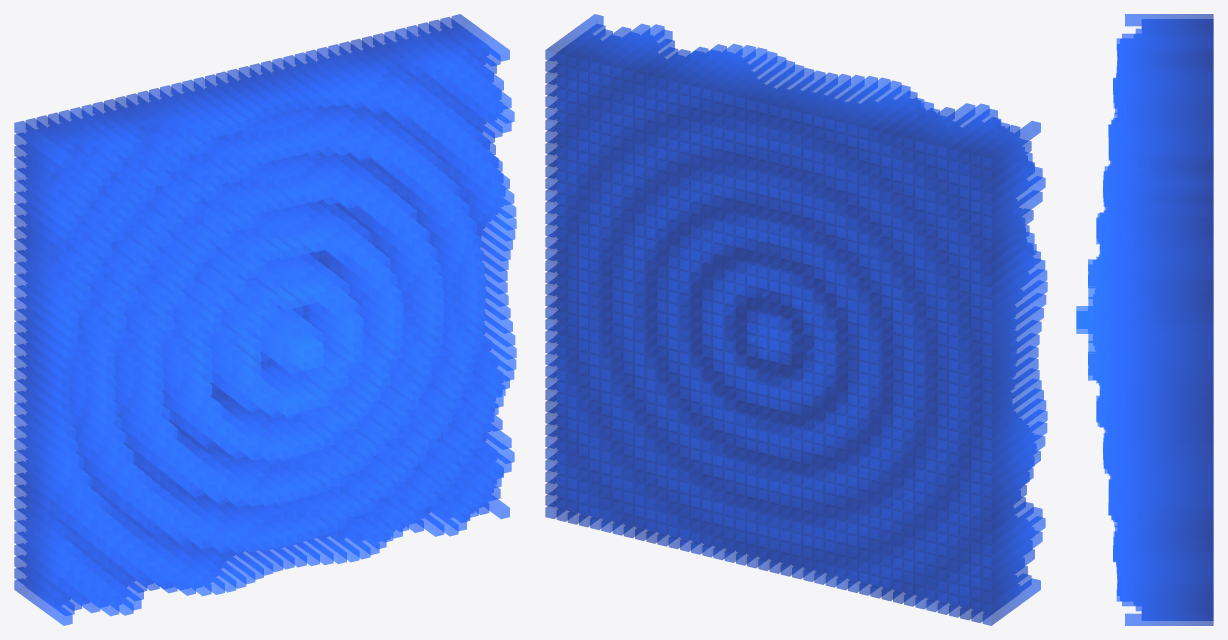
The model's file is voxel_wave.glb.
3 views of the same model, side by side, from view 1: azimuth 30°, elevation 25°; view 2: azimuth 150°, elevation 25°; view 3: azimuth 270°, elevation 25° (orthographic). The views are drawn at different scales.
Visible parts, largest first — view 1: VoxelWaveNode; view 2: VoxelWaveNode; view 3: VoxelWaveNode.
Boxes of the visible parts, <box> form: VoxelWaveNode: <box>14,14,516,625</box>; VoxelWaveNode: <box>545,14,1047,625</box>; VoxelWaveNode: <box>1076,14,1213,625</box>.
Bounding box in the file's own units: 204 × 204 × 60.74.
